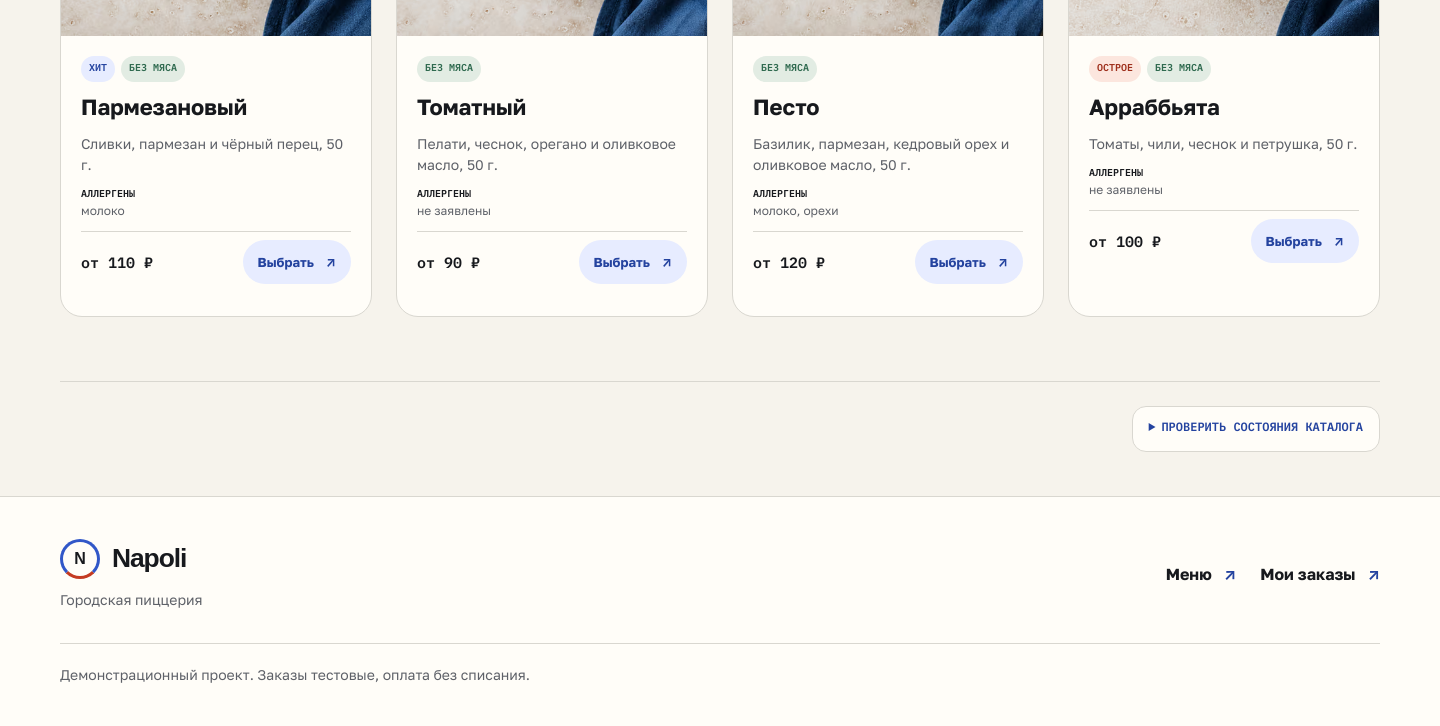
Scenario: Napoli owned menu › shows offline recovery while keeping Napoli navigation available
(page scrolled)
Click the heading "Проверить состояния каталога" at (1262, 427), box [1161,419,1363,434]
(page scrolled)
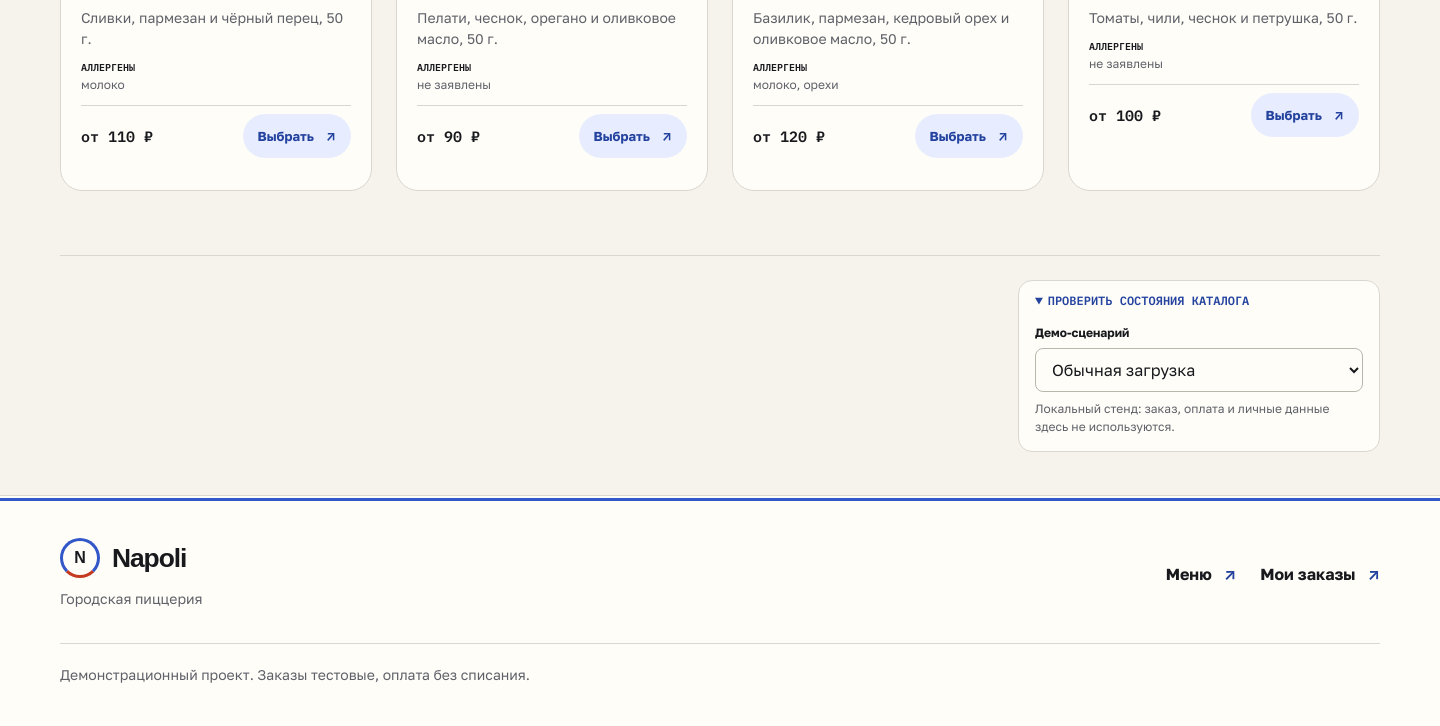
Select "Нет сети" in the dropdown labelled "Демо-сценарий" at (1199, 370), box [1035,348,1363,392]
(page scrolled)
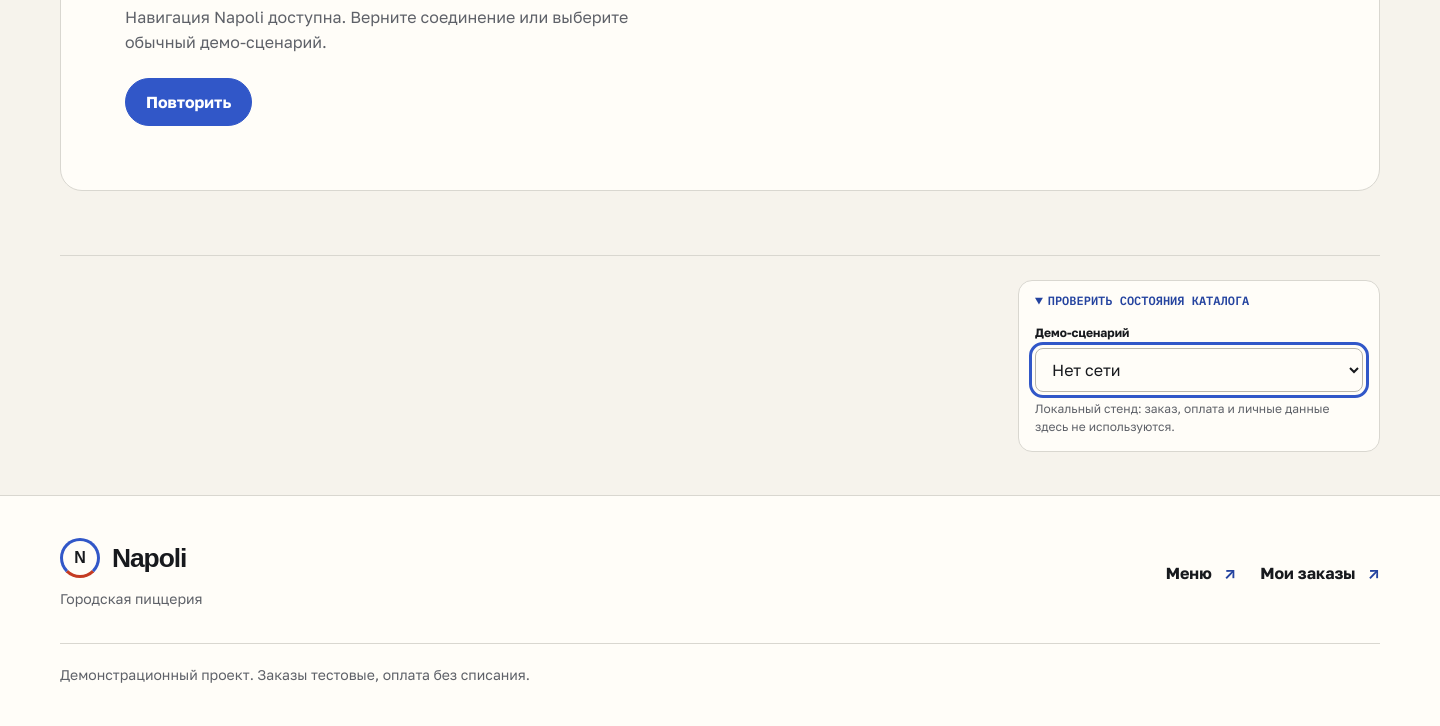
Select "Обычная загрузка" in the dropdown labelled "Демо-сценарий" at (1199, 370), box [1035,348,1363,392]
(page scrolled)
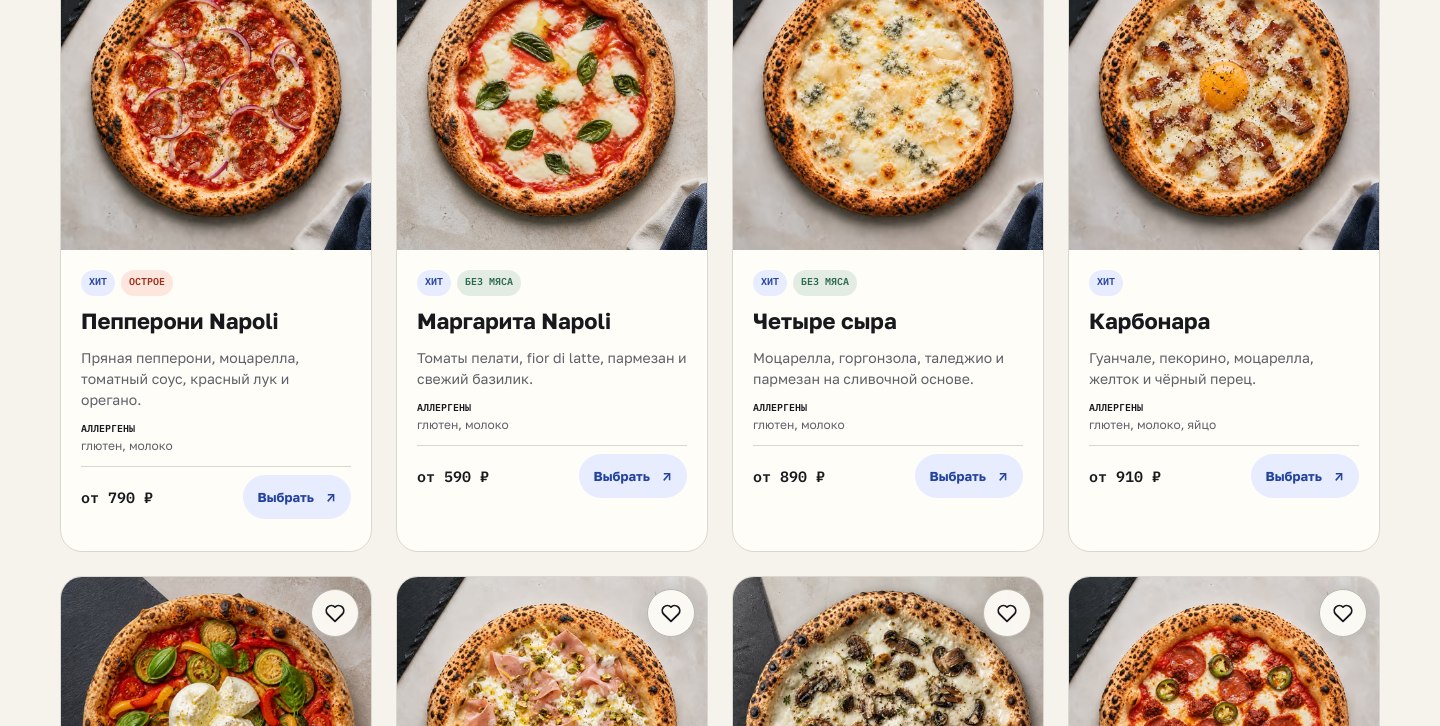
Now the heading "Маргарита Napoli" is shown, box [417,307,611,334]
